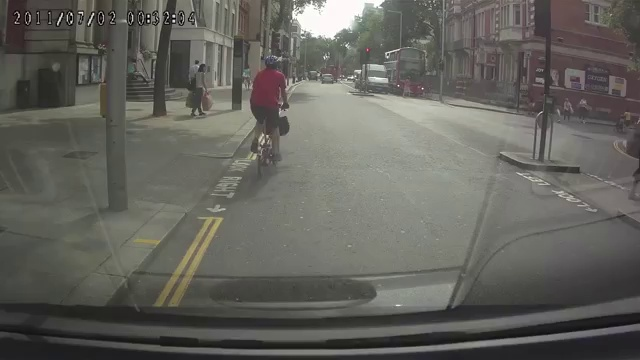cyclist_back: (248, 54, 289, 180)
